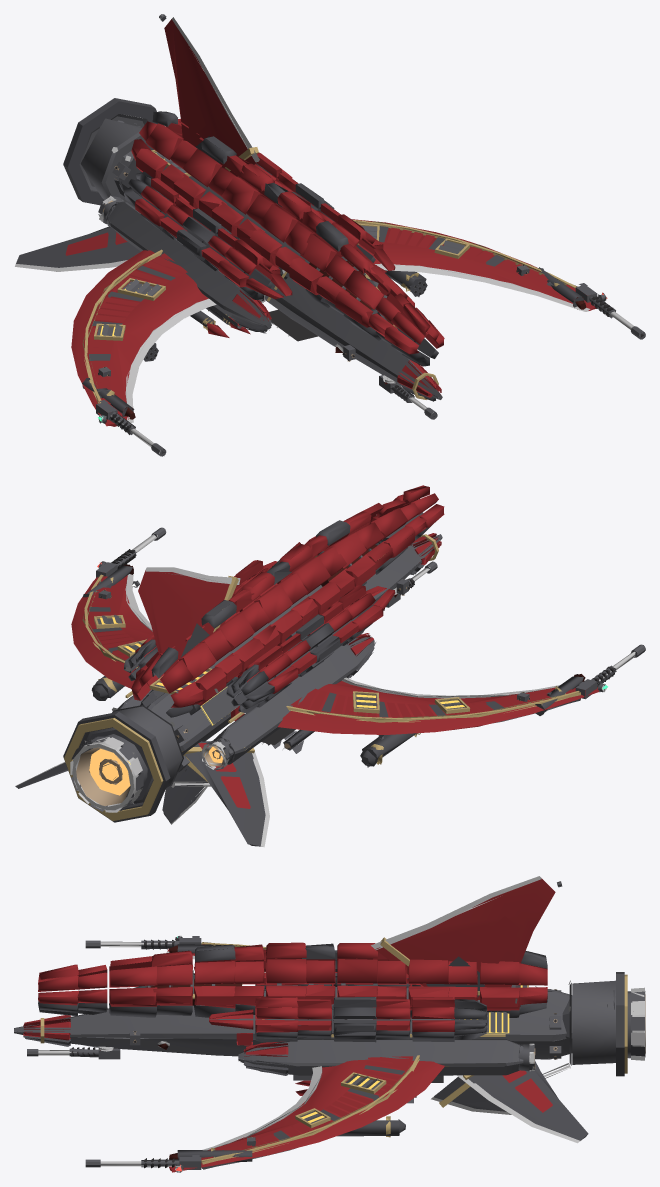
The model's file is enemy_fighter_c_lod.glb.
3 views of the same model, one above another, from view 1: azimuth 30°, elevation 25°; view 2: azimuth 150°, elevation 25°; view 3: azimuth 270°, elevation 25° (orthographic). The views are drawn at different scales.
Parts seen in each view (by area): view 1: enemy_fighter_c; view 2: enemy_fighter_c; view 3: enemy_fighter_c.
Part boxes in pixels (x1,y1,x2,y2): enemy_fighter_c: (15,14,645,456); enemy_fighter_c: (15,485,645,847); enemy_fighter_c: (14,876,645,1172).
Bounding box in the file's own units: 7.71 × 3.81 × 8.87.
